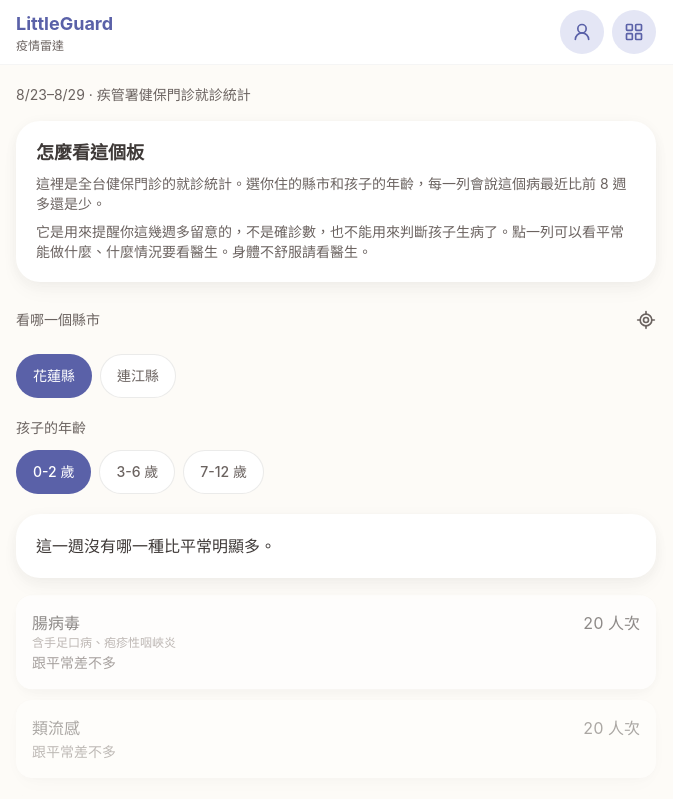
Test case: 一句話總結 › 有病種比平常多就點名，不用家長自己讀四列
Expected: the text "腸病毒" is shown, [32,613,80,633]
Click the button "3-6 歲" at (137, 472), box [100,450,175,494]
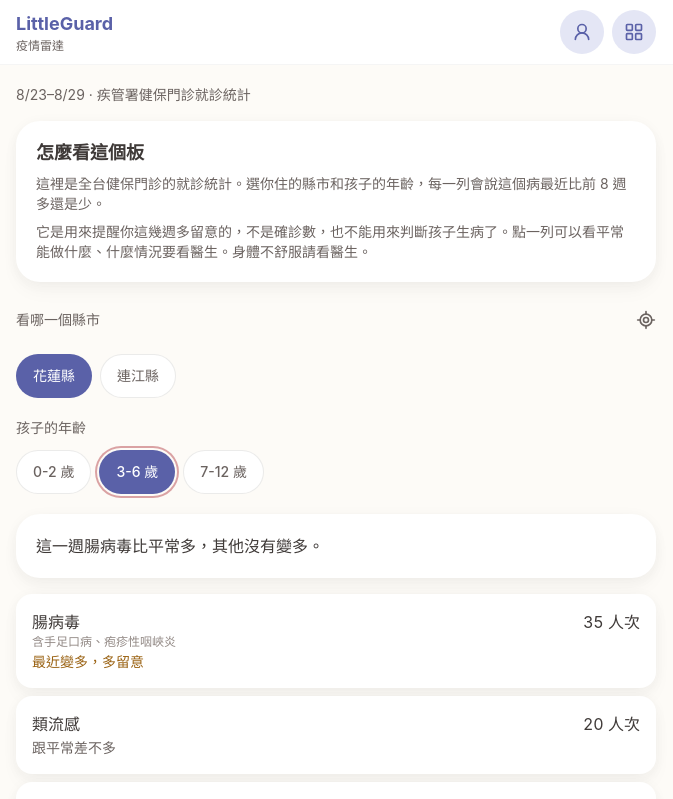
Expected: the text "這一週腸病毒比平常多，其他沒有變多。" is shown, [16,514,656,578]
